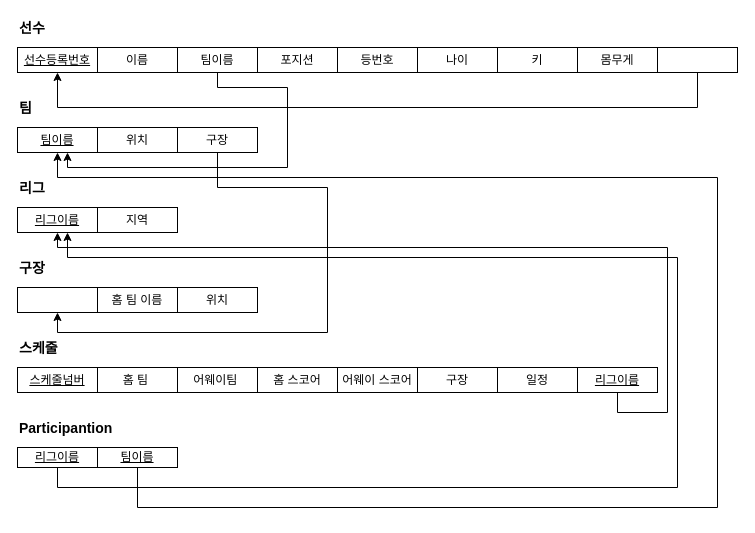
Image size: 755x533. Some labels were removed from this diagram. Each missing label, with the box of its shape:
구장이름: (16, 286, 98, 312)
주장번호: (656, 46, 738, 72)
